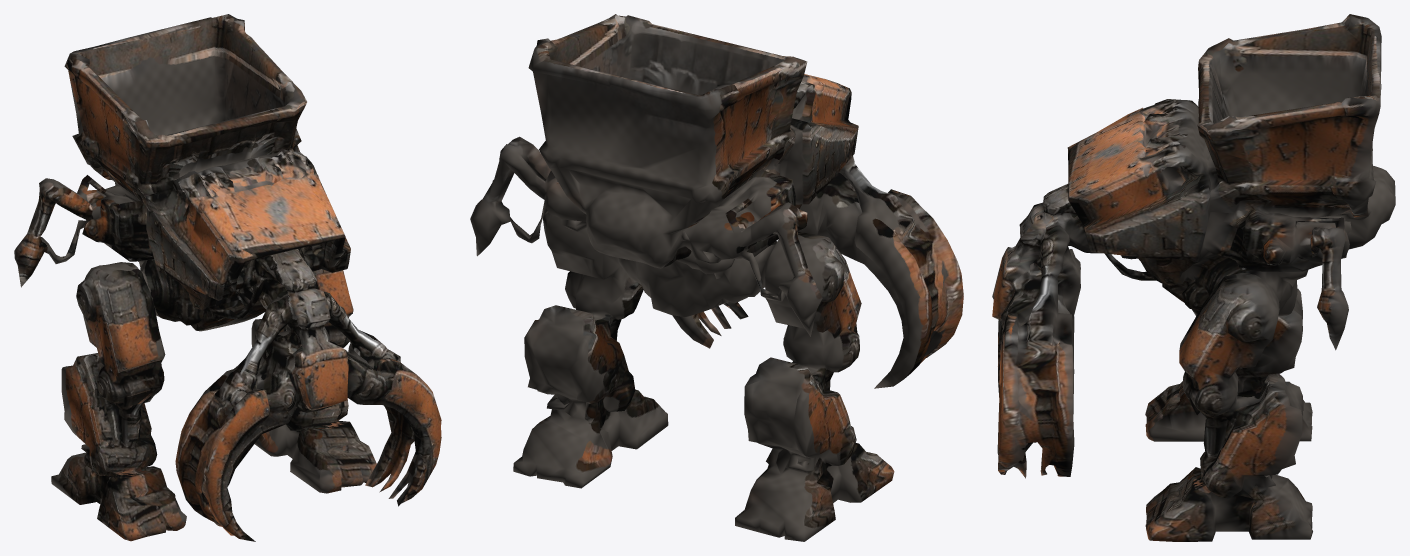
The model's file is scrapjaw_lod1.glb.
The picture shows the model from 3 angles, left to right: view 1: azimuth 30°, elevation 25°; view 2: azimuth 150°, elevation 25°; view 3: azimuth 270°, elevation 25°; orthographic projection. The views are drawn at different scales.
Parts seen in each view (by area): view 1: geometry_0; view 2: geometry_0; view 3: geometry_0.
Part boxes in pixels (x1,y1,x2,y2): geometry_0: (14,14,441,541); geometry_0: (470,14,963,541); geometry_0: (992,14,1395,541).
Size of the model in its own units: 1.57 by 2 by 1.74.
Materials: 1 (1 with a texture image).
